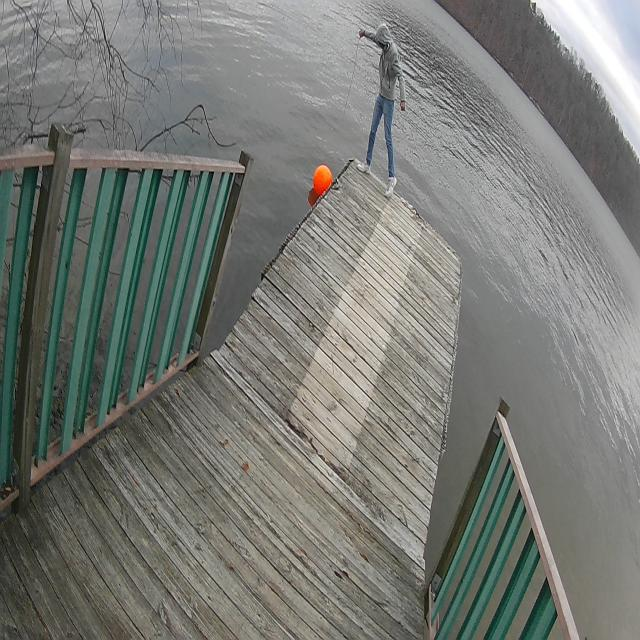Buoy: (310, 160, 335, 200)
